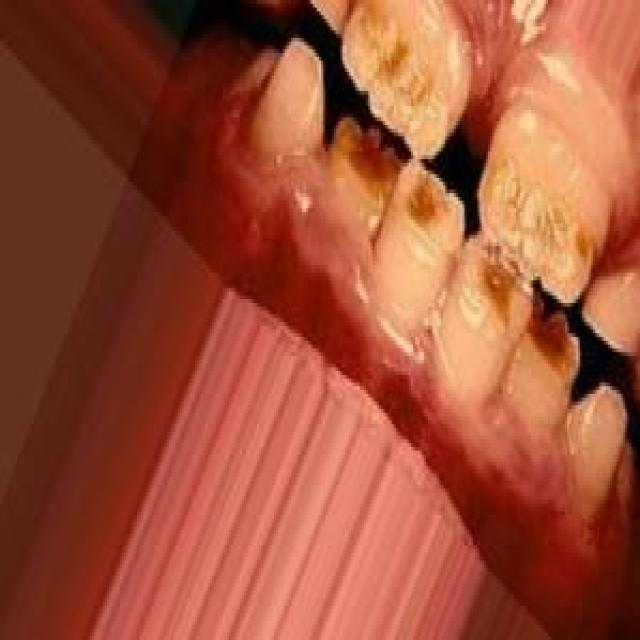caries: (338, 4, 448, 153), (487, 178, 588, 302), (330, 104, 399, 204), (398, 157, 464, 250), (464, 231, 527, 327), (531, 296, 585, 384)
